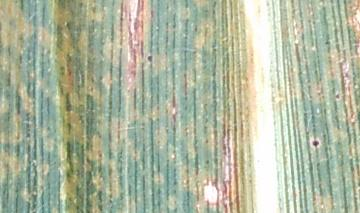tarspot: (143, 51, 156, 65), (309, 138, 323, 150), (332, 91, 343, 103)
